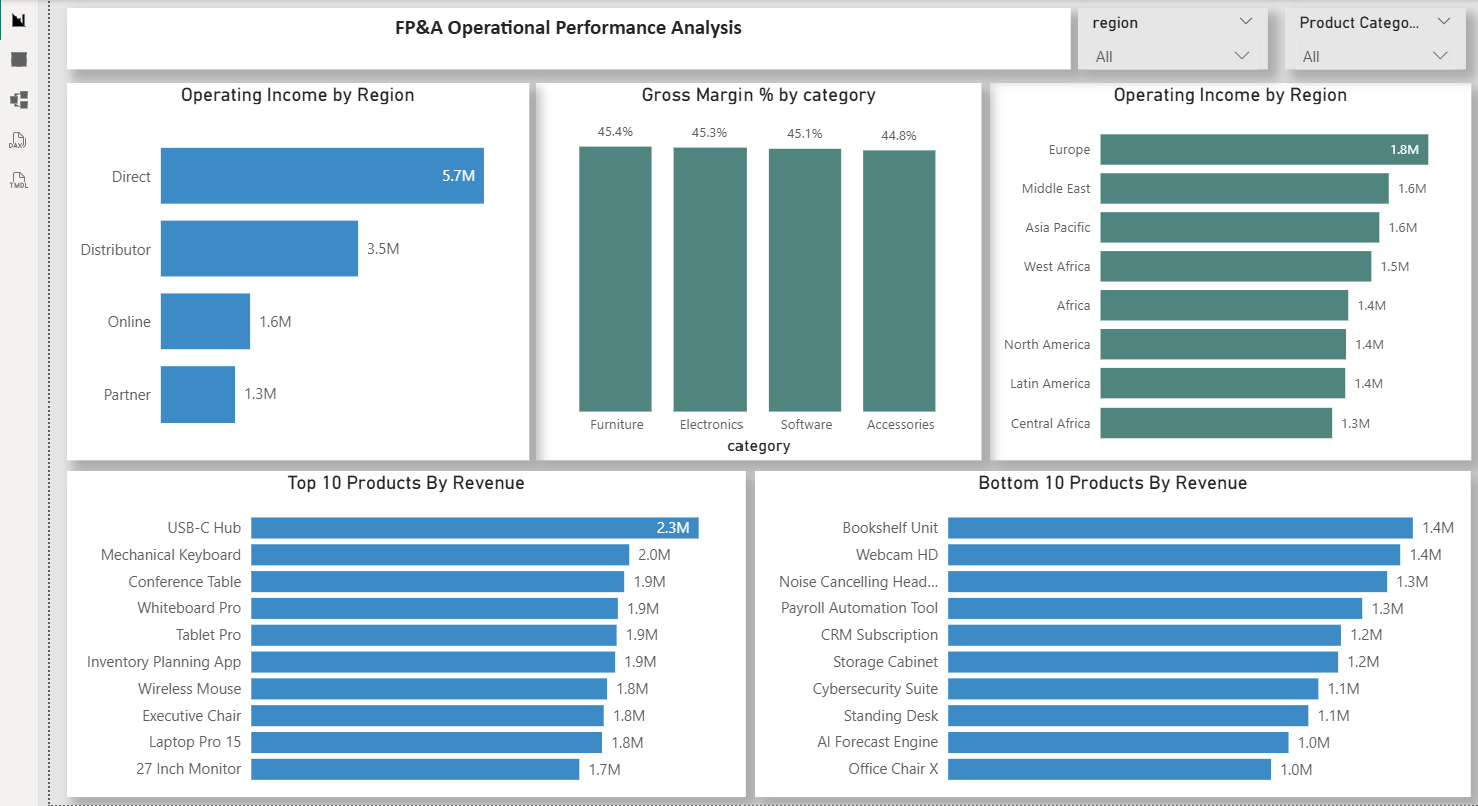

This screenshot's page, from the dashboard's own definition file:
{"tool":"powerbi","page":{"name":"Operational Analysis","canvas":[1280,720],"ordinal":1},"visuals":[{"type":"clusteredBarChart","title":"Operating Income by Region","fields":{"Category":["dim_region.region_name"],"Y":["vw_profitability_kpis.Operating Income"]},"box":[840.9,74.3,430.9,336.8],"z":0},{"type":"textbox","box":[15,7,897.9,54.9],"z":1000},{"type":"clusteredColumnChart","fields":{"Category":["dim_product.category"],"Y":["vw_profitability_kpis.Gross Margin %"]},"box":[435.6,74.3,398.4,336.8],"z":2000},{"type":"clusteredBarChart","title":"Operating Income by Region","fields":{"Y":["vw_profitability_kpis.Operating Income"],"Category":["dim_region.sales_channel"]},"box":[15.1,74.3,413.5,336.8],"z":3000},{"type":"clusteredBarChart","title":"Top 10 Products By Revenue","fields":{"Category":["dim_product.product_name"],"Y":["vw_profitability_kpis.Total Revenue"]},"box":[15.1,420.5,607.5,291.5],"z":4000},{"type":"clusteredBarChart","title":"Bottom 10 Products By Revenue","fields":{"Category":["dim_product.product_name"],"Y":["vw_profitability_kpis.Total Revenue"]},"box":[630.7,420.5,641.2,291.5],"z":5000},{"type":"slicer","title":"Region","fields":{"Values":["dim_region.region_name"]},"box":[919.8,7,169.6,54.9],"z":6000},{"type":"slicer","title":"Product Category","fields":{"Values":["dim_product.category"]},"box":[1105.4,7,161.6,54.9],"z":7000}]}

Visuals, with their boxes on the page's 1280x720 design canvas (x1, y1, x2, y2). These are canvas units, not pixel positions in the 1478x806 screenshot, which may show the page scaled, cropped or inside an application window:
"Operating Income by Region" clusteredBarChart: pyautogui.locateOnScreen(841, 74, 1272, 411)
textbox: pyautogui.locateOnScreen(15, 7, 913, 62)
clusteredColumnChart - dim_product.category x vw_profitability_kpis.Gross Margin %: pyautogui.locateOnScreen(436, 74, 834, 411)
"Operating Income by Region" clusteredBarChart: pyautogui.locateOnScreen(15, 74, 429, 411)
"Top 10 Products By Revenue" clusteredBarChart: pyautogui.locateOnScreen(15, 420, 623, 712)
"Bottom 10 Products By Revenue" clusteredBarChart: pyautogui.locateOnScreen(631, 420, 1272, 712)
"Region" slicer: pyautogui.locateOnScreen(920, 7, 1089, 62)
"Product Category" slicer: pyautogui.locateOnScreen(1105, 7, 1267, 62)
